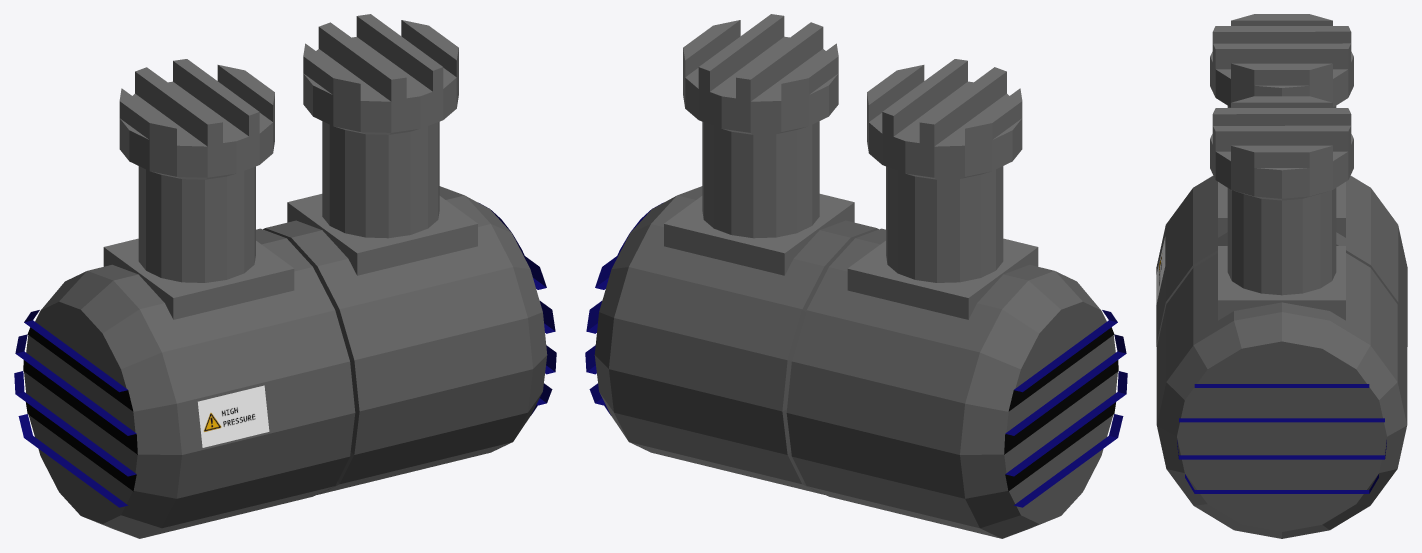
File: VacuumPumpMain.glb
3 renders of one model, left to right at view 1: azimuth 30°, elevation 25°; view 2: azimuth 150°, elevation 25°; view 3: azimuth 270°, elevation 25°, orthographic. The views are drawn at different scales.
Parts seen in each view (by area): view 1: Cylinder, Cube.002, Cube.001, Circle.003, Circle.001, HighPressure, Circle; view 2: Cylinder, Cube.002, Cube.001, Circle.003, Circle.001, Circle; view 3: Cylinder, Cube.002, Cube.001, Circle, HighPressure.
Part boxes in pixels (box(x1,y1,x2,y2)): Cylinder: box(24, 186, 547, 538); Cube.002: box(287, 14, 477, 275); Cube.001: box(103, 59, 294, 319); Circle.003: box(14, 310, 136, 507); Circle.001: box(23, 327, 137, 491); HighPressure: box(198, 385, 269, 447); Circle: box(478, 202, 556, 415); Cylinder: box(594, 186, 1117, 538); Cube.002: box(664, 14, 854, 275); Cube.001: box(847, 59, 1038, 319); Circle.003: box(1005, 310, 1127, 507); Circle.001: box(1004, 327, 1118, 491); Circle: box(585, 202, 663, 415); Cylinder: box(1156, 175, 1407, 538); Cube.002: box(1210, 96, 1353, 320); Cube.001: box(1210, 14, 1353, 237); Circle: box(1177, 384, 1386, 493); HighPressure: box(1156, 237, 1165, 304).
Bounding box in the file's own units: 4.31 × 4.01 × 2.39.
5 materials, 1 textured.
